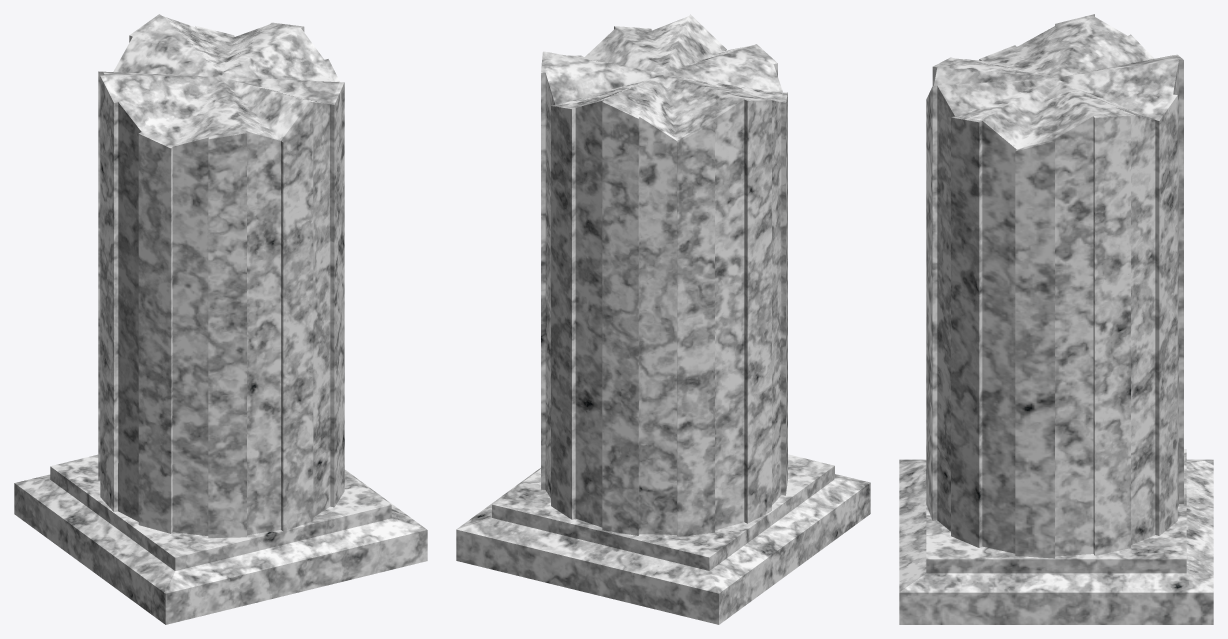
File: BrokenPillar.fbx
The picture shows the model from 3 angles, left to right: view 1: azimuth 30°, elevation 25°; view 2: azimuth 150°, elevation 25°; view 3: azimuth 270°, elevation 25°; orthographic projection. The views are drawn at different scales.
Parts seen in each view (by area): view 1: pCube1; view 2: pCube1; view 3: pCube1.
Part boxes in pixels (x1,y1,x2,y2): pCube1: (14,14,427,624); pCube1: (456,14,870,624); pCube1: (899,14,1213,624).
Bounding box in the file's own units: 4 × 6.99 × 4.
1 material, 1 textured.
